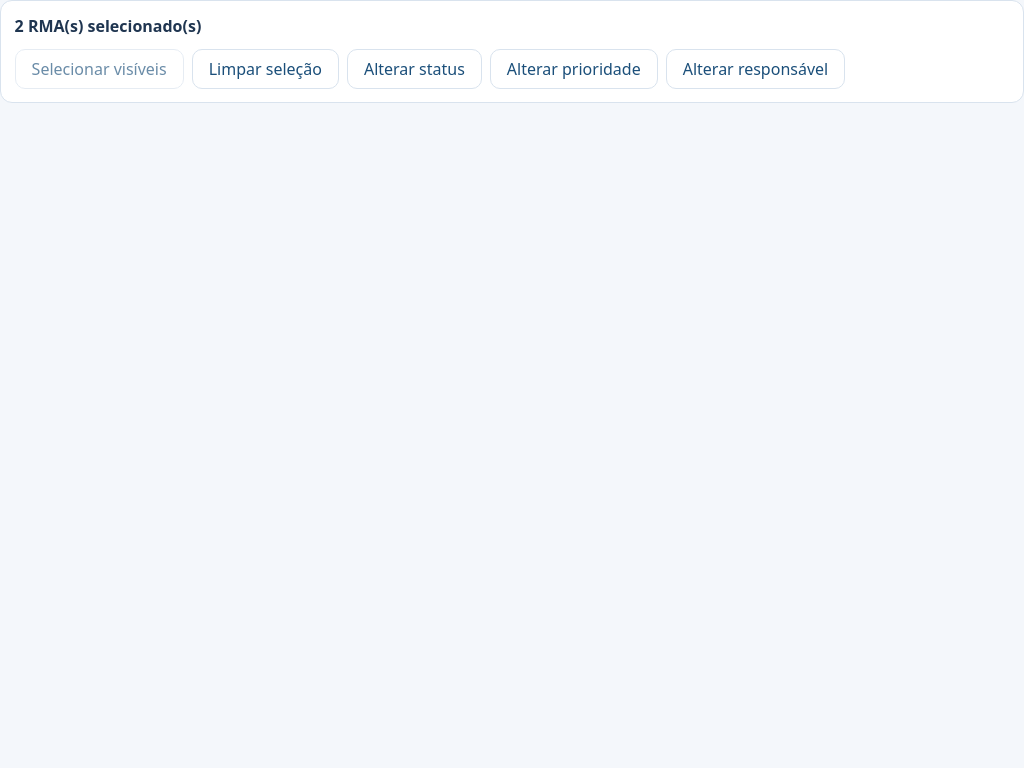
Scenario: KanbanBulkActionsComponent › requires confirmation and cancels without sending requests
The image size is (1024, 768).
Step 1. Click the button "Alterar status" → x=414, y=69, box [347,49,482,89]
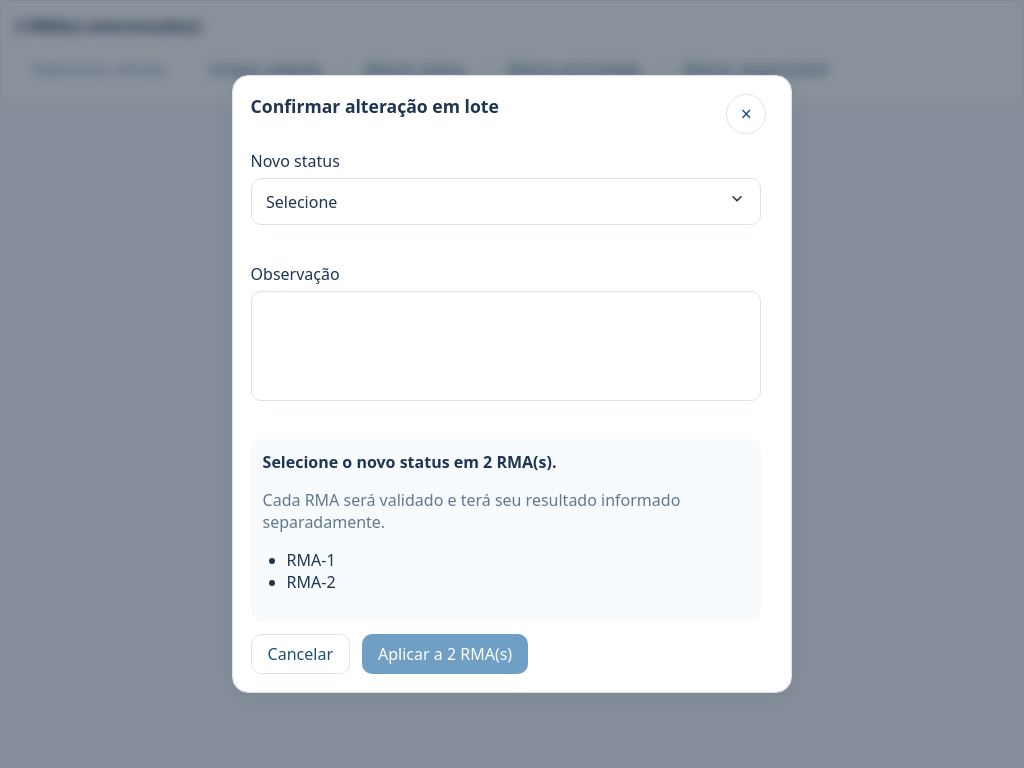
Result: the dialog shows "2 RMA(s)" at [263,451,556,473]
Result: the dialog shows "Selecione o novo status" at [263,451,556,473]
Result: the button "Aplicar a 2 RMA(s)" is disabled at [362,634,528,674]
Step 2. Click the button "Cancelar" → x=300, y=654, box [251,634,350,674]
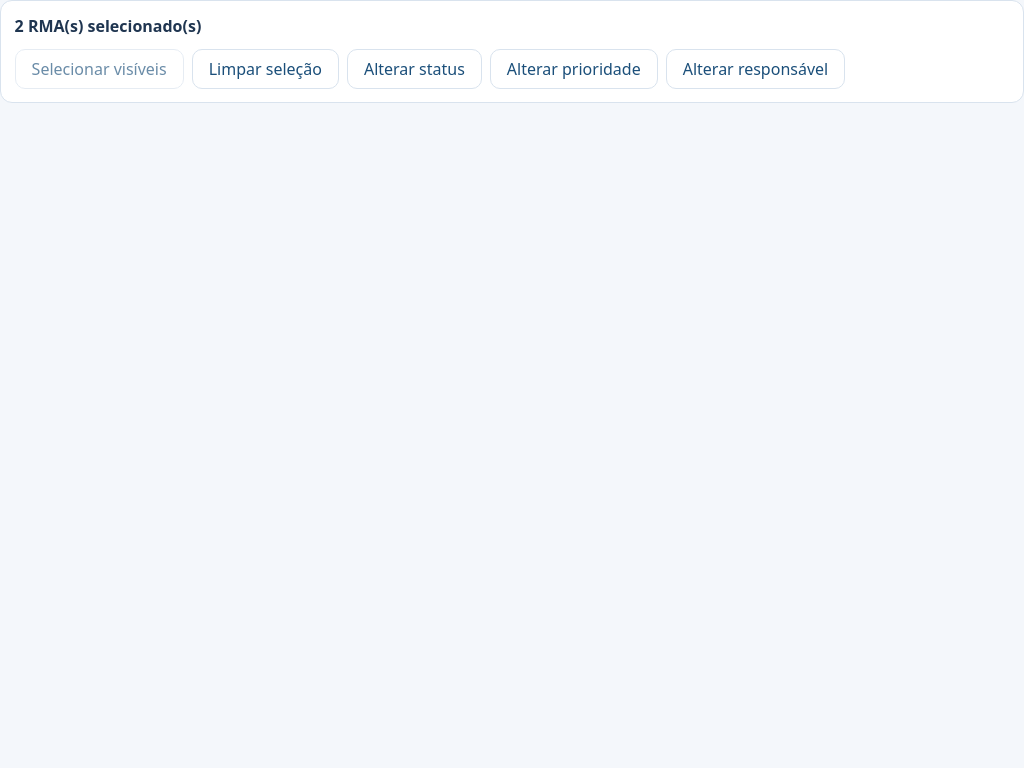
Result: the dialog is gone
